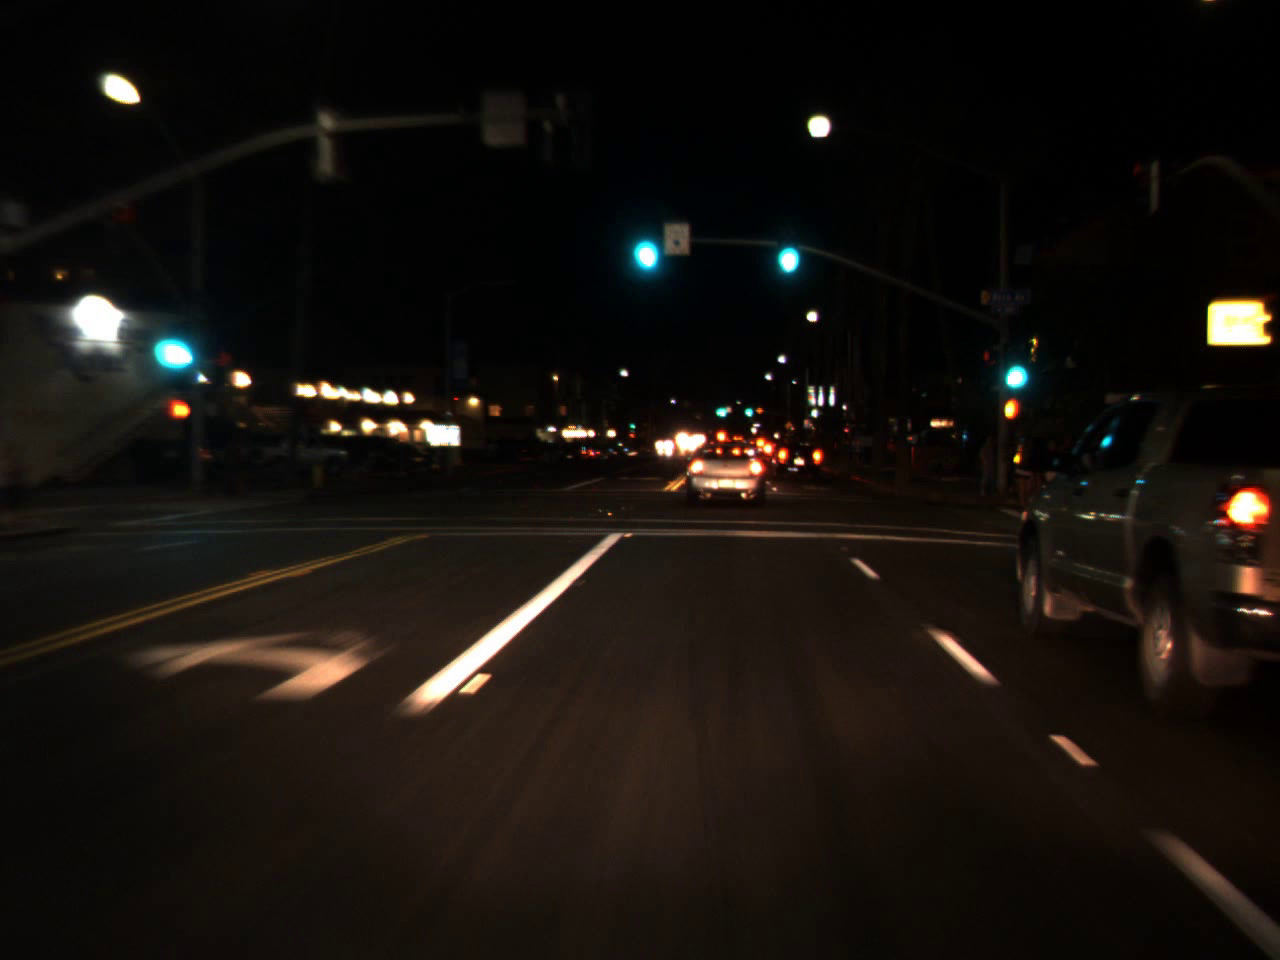go: (145, 303, 197, 381), (622, 201, 665, 282), (769, 212, 803, 284), (996, 335, 1032, 398), (712, 398, 728, 419), (742, 398, 754, 419), (628, 418, 635, 430)
